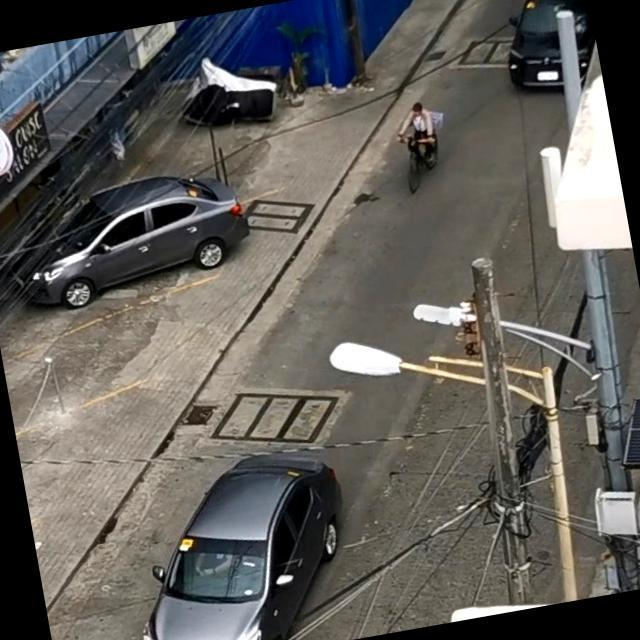Car: (109, 439, 364, 640), (5, 164, 248, 316), (484, 0, 602, 95)
